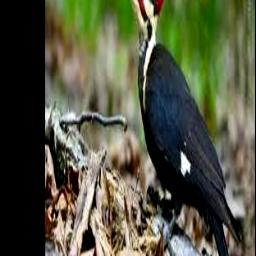Woodpecker: (116, 0, 247, 256)
